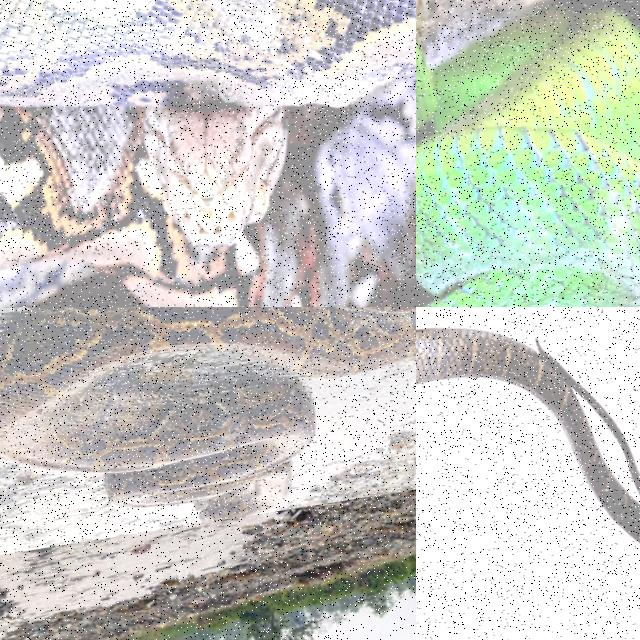Malayopython reticulatus: (0, 0, 415, 306)
Ophiophagus hannah: (416, 328, 639, 541)
Python bivittatus: (0, 307, 415, 520)
Trimeresurus macrops: (416, 12, 639, 306)
snake: (0, 0, 415, 306), (0, 307, 415, 520), (416, 12, 639, 306), (416, 328, 639, 541)
